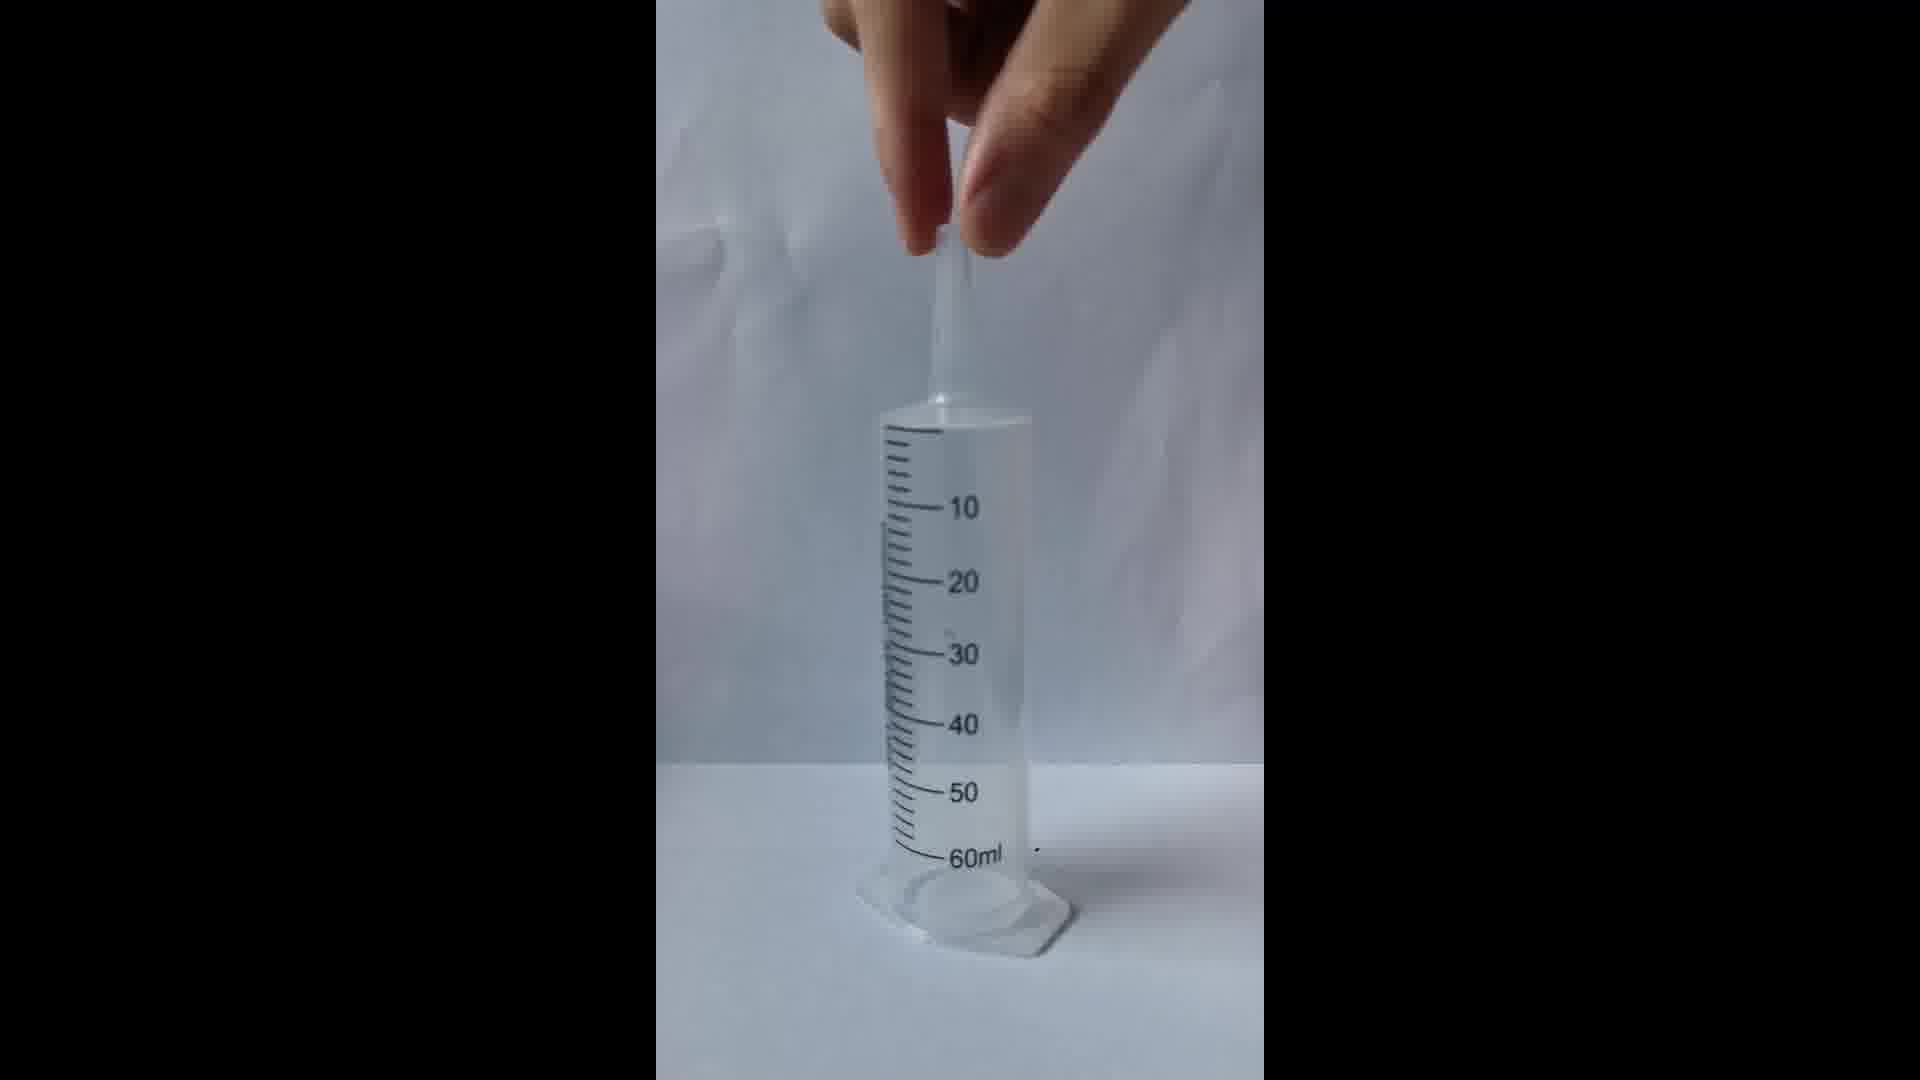syringe: (851, 266, 1093, 969)
